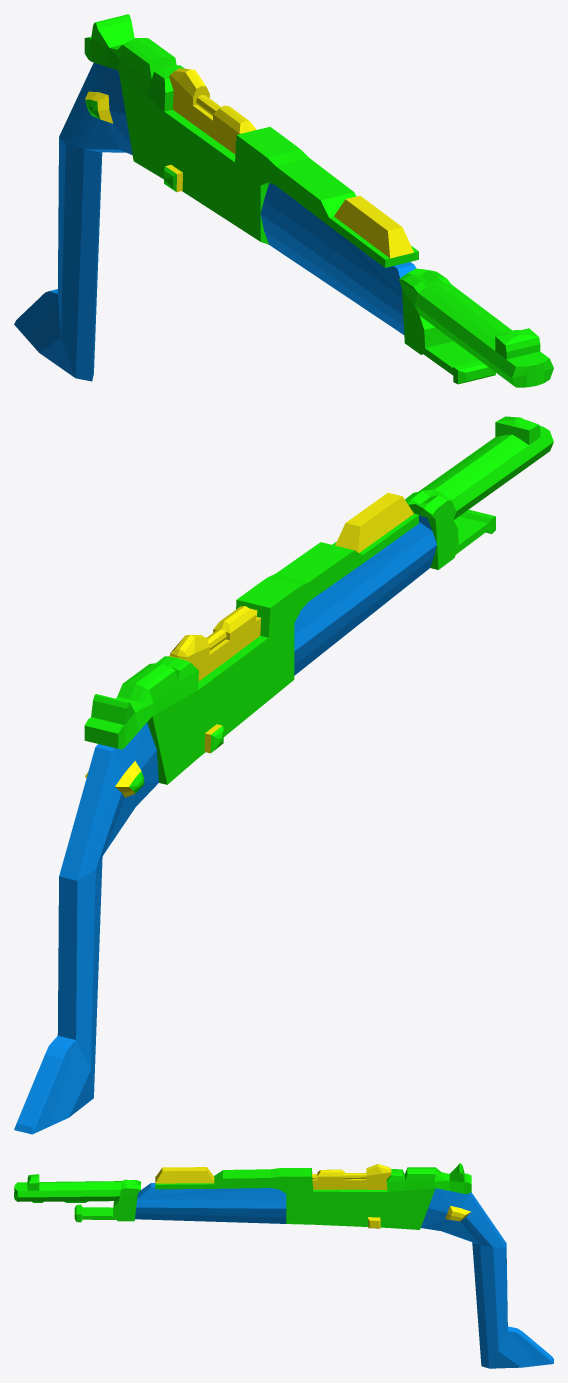
Rendered from armaDAguaSoldado (1).fbx.
3 views of the same model, one above another, from view 1: azimuth 30°, elevation 25°; view 2: azimuth 150°, elevation 25°; view 3: azimuth 270°, elevation 25° (orthographic). The views are drawn at different scales.
Parts seen in each view (by area): view 1: Cube; view 2: Cube; view 3: Cube.
Boxes of the visible parts, x1=… form: Cube: x1=14, y1=14, x2=553, y2=387; Cube: x1=14, y1=416, x2=553, y2=1134; Cube: x1=14, y1=1163, x2=553, y2=1368.
Bounding box in the file's own units: 29.32 × 498 × 206.
